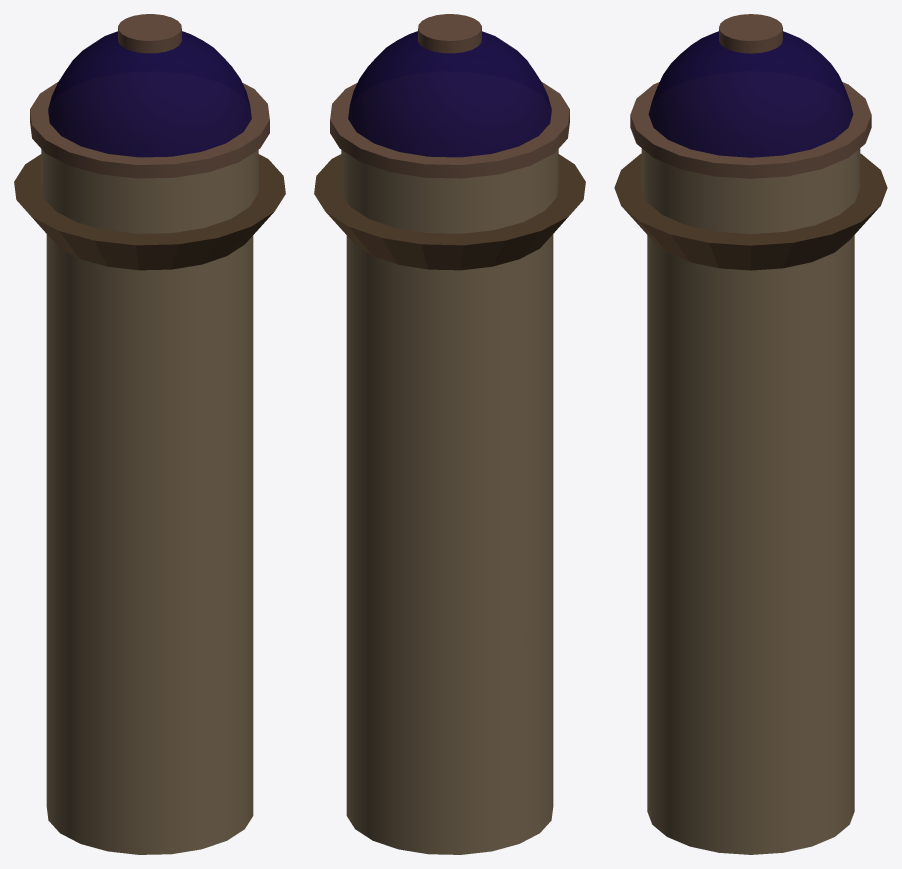
The model's file is RBuilding.fbx.
3 renders of one model, left to right at view 1: azimuth 30°, elevation 25°; view 2: azimuth 150°, elevation 25°; view 3: azimuth 270°, elevation 25°, orthographic.
Parts seen in each view (by area): view 1: Icecream; view 2: Icecream; view 3: Icecream.
Boxes of the visible parts, x1,y1,x2,y2 form: Icecream: (14, 14, 285, 854); Icecream: (314, 14, 585, 854); Icecream: (614, 14, 887, 854).
Size of the model in its own units: 2.63 by 8.33 by 2.63.
